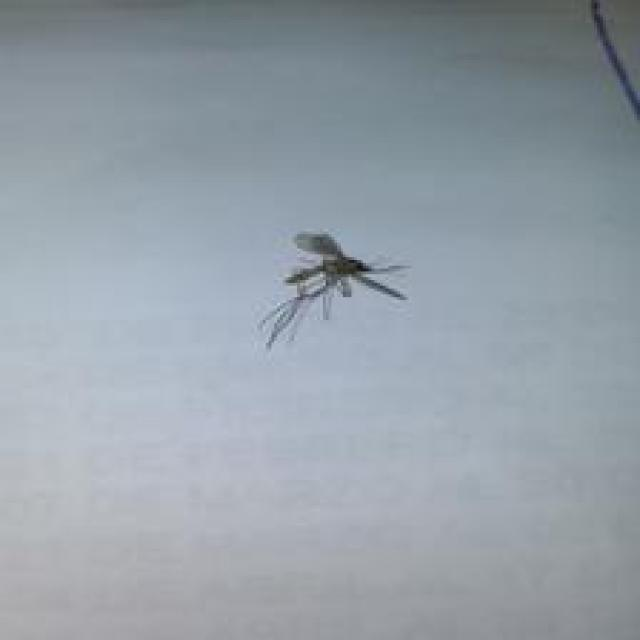Culex: (257, 227, 412, 350)
